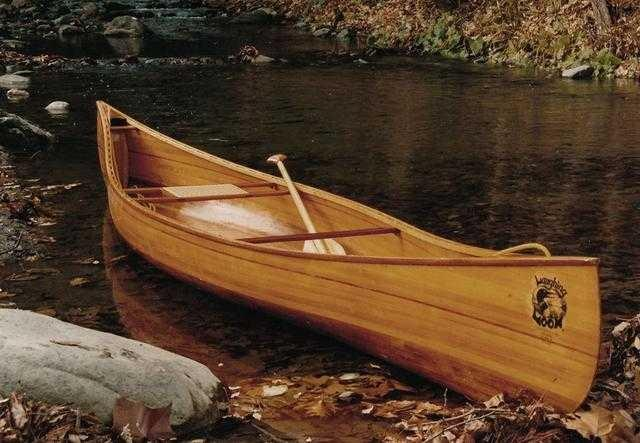kayak: (94, 102, 603, 414)
